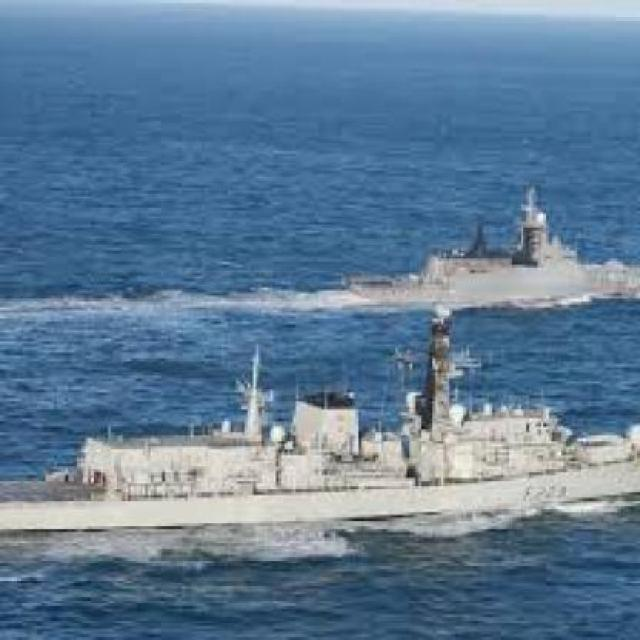warship2: (1, 348, 638, 549), (336, 183, 635, 314)
